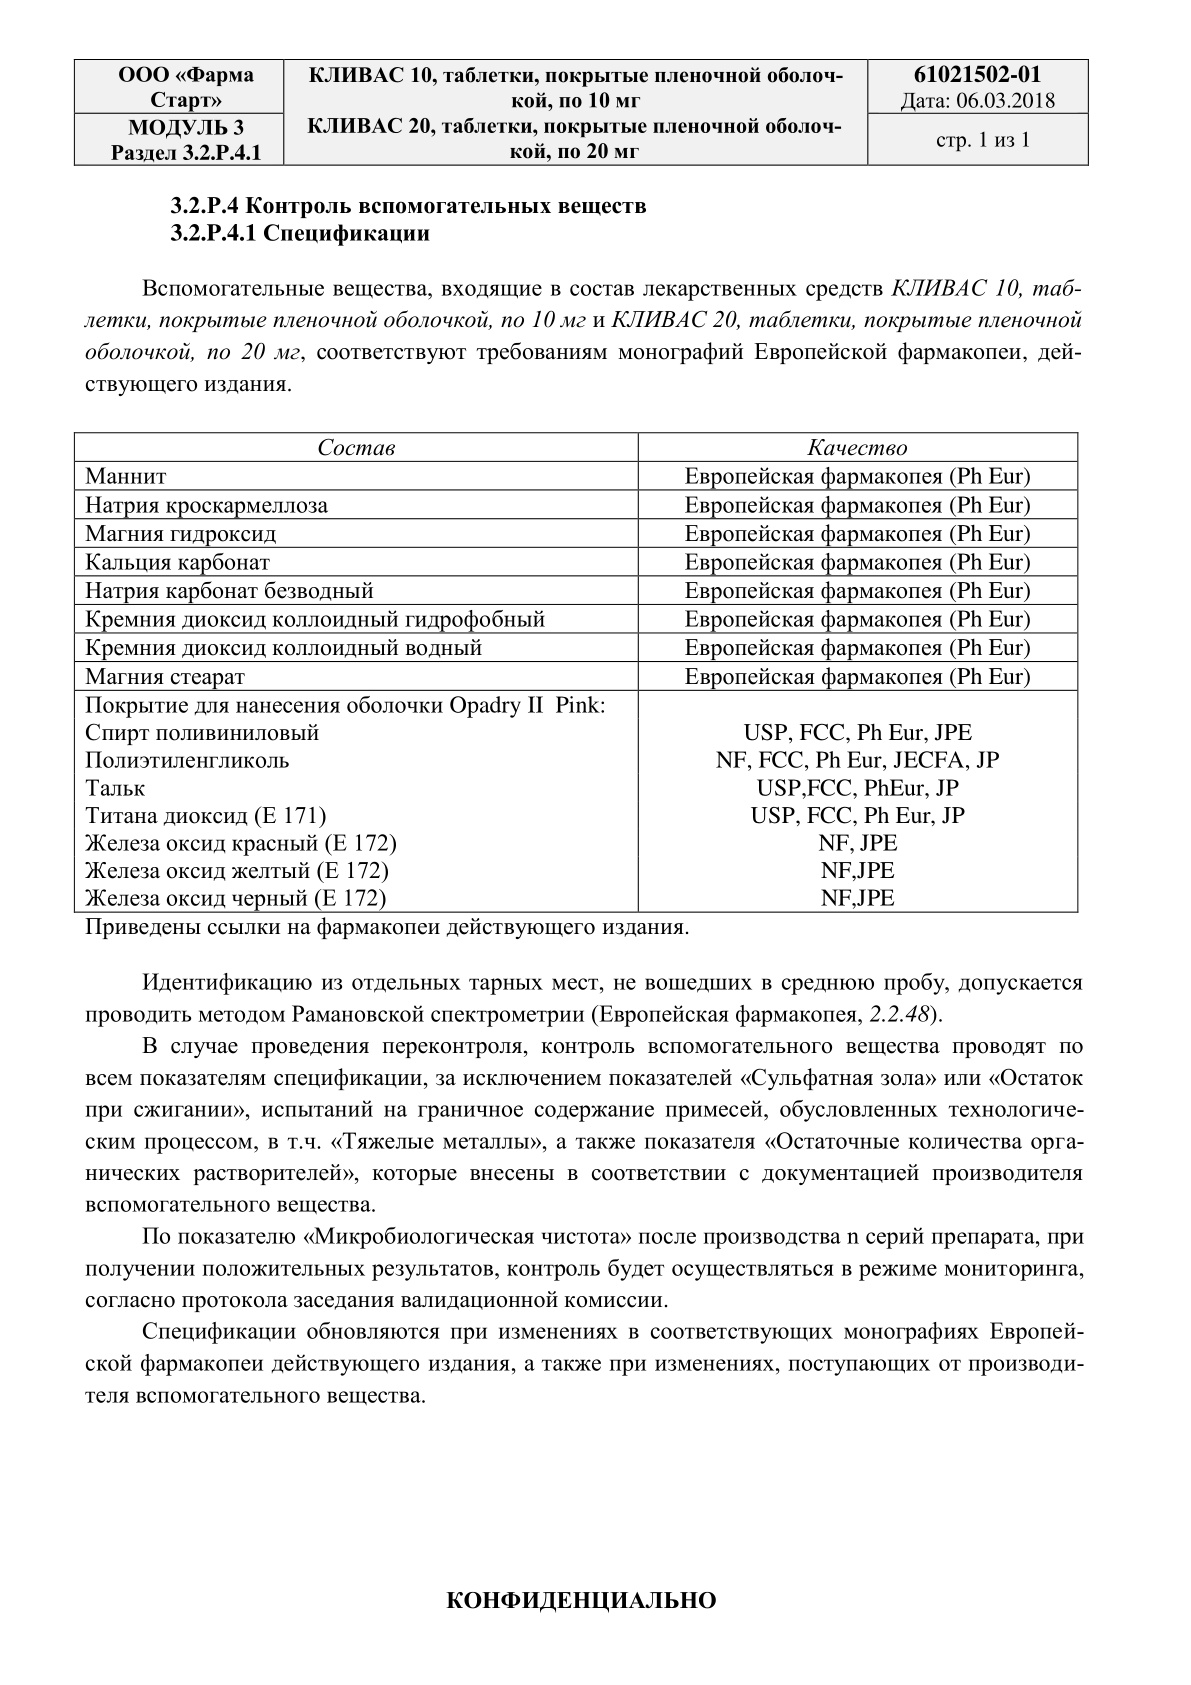merged_cells: (73, 57, 1089, 168)
partial_lined: (72, 431, 1080, 914)
